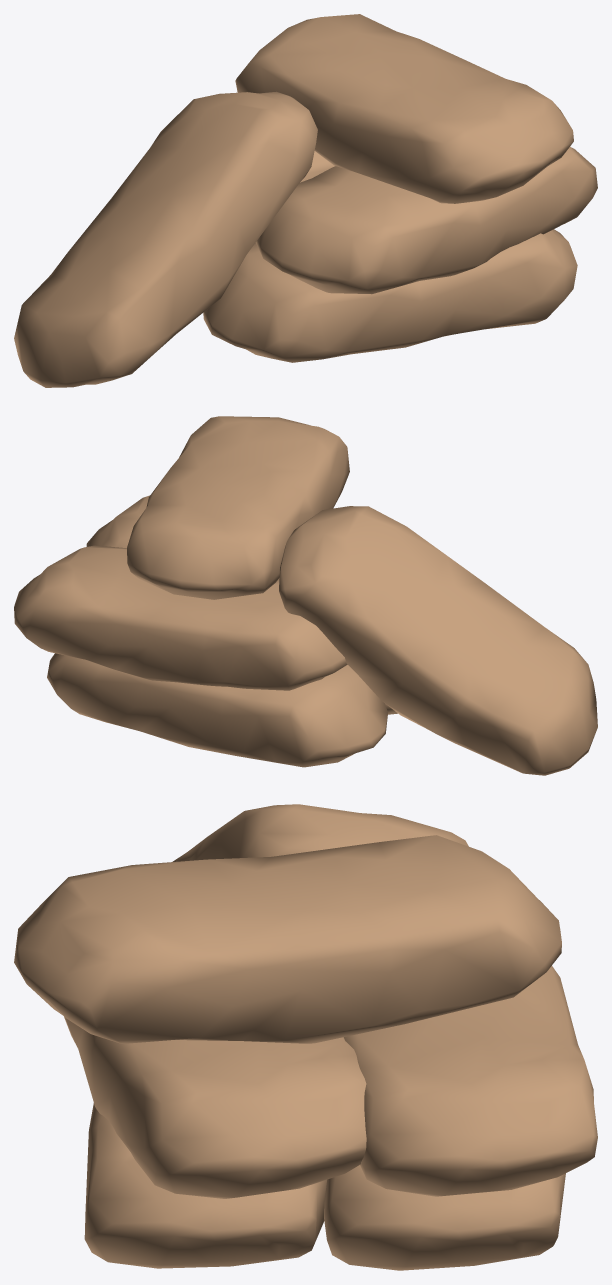
Rendered from sack_pile.glb.
3 renders of one model, top to bottom at view 1: azimuth 30°, elevation 25°; view 2: azimuth 150°, elevation 25°; view 3: azimuth 270°, elevation 25°, orthographic. The views are drawn at different scales.
Parts seen in each view (by area): view 1: SackPile; view 2: SackPile; view 3: SackPile.
Boxes of the visible parts, x1,y1,x2,y2 form: SackPile: (14,14,597,387); SackPile: (14,416,597,775); SackPile: (14,804,597,1270).
Size of the model in its own units: 2.05 by 0.849 by 1.35.
